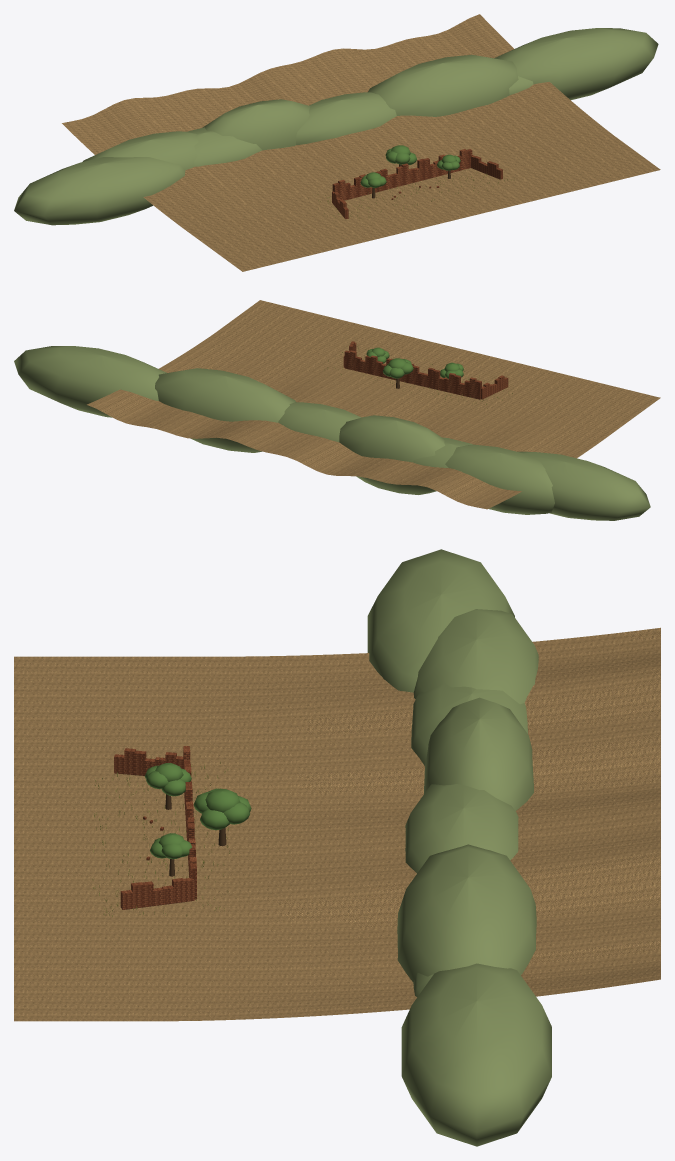
File: ruines.glb
The picture shows the model from 3 angles, top to bottom: view 1: azimuth 30°, elevation 25°; view 2: azimuth 150°, elevation 25°; view 3: azimuth 270°, elevation 25°; orthographic projection. The views are drawn at different scales.
Visible parts, largest first — view 1: sol, decor; view 2: sol, decor; view 3: sol, decor.
Boxes of the visible parts, bbox=[...] form: sol: bbox=[62, 14, 660, 271]; decor: bbox=[14, 28, 658, 225]; sol: bbox=[87, 300, 660, 509]; decor: bbox=[14, 341, 650, 520]; sol: bbox=[14, 627, 660, 1021]; decor: bbox=[92, 549, 551, 1146].
Bounding box in the file's own units: 188 × 19.8 × 90.
Materials: 6 (2 with a texture image).
